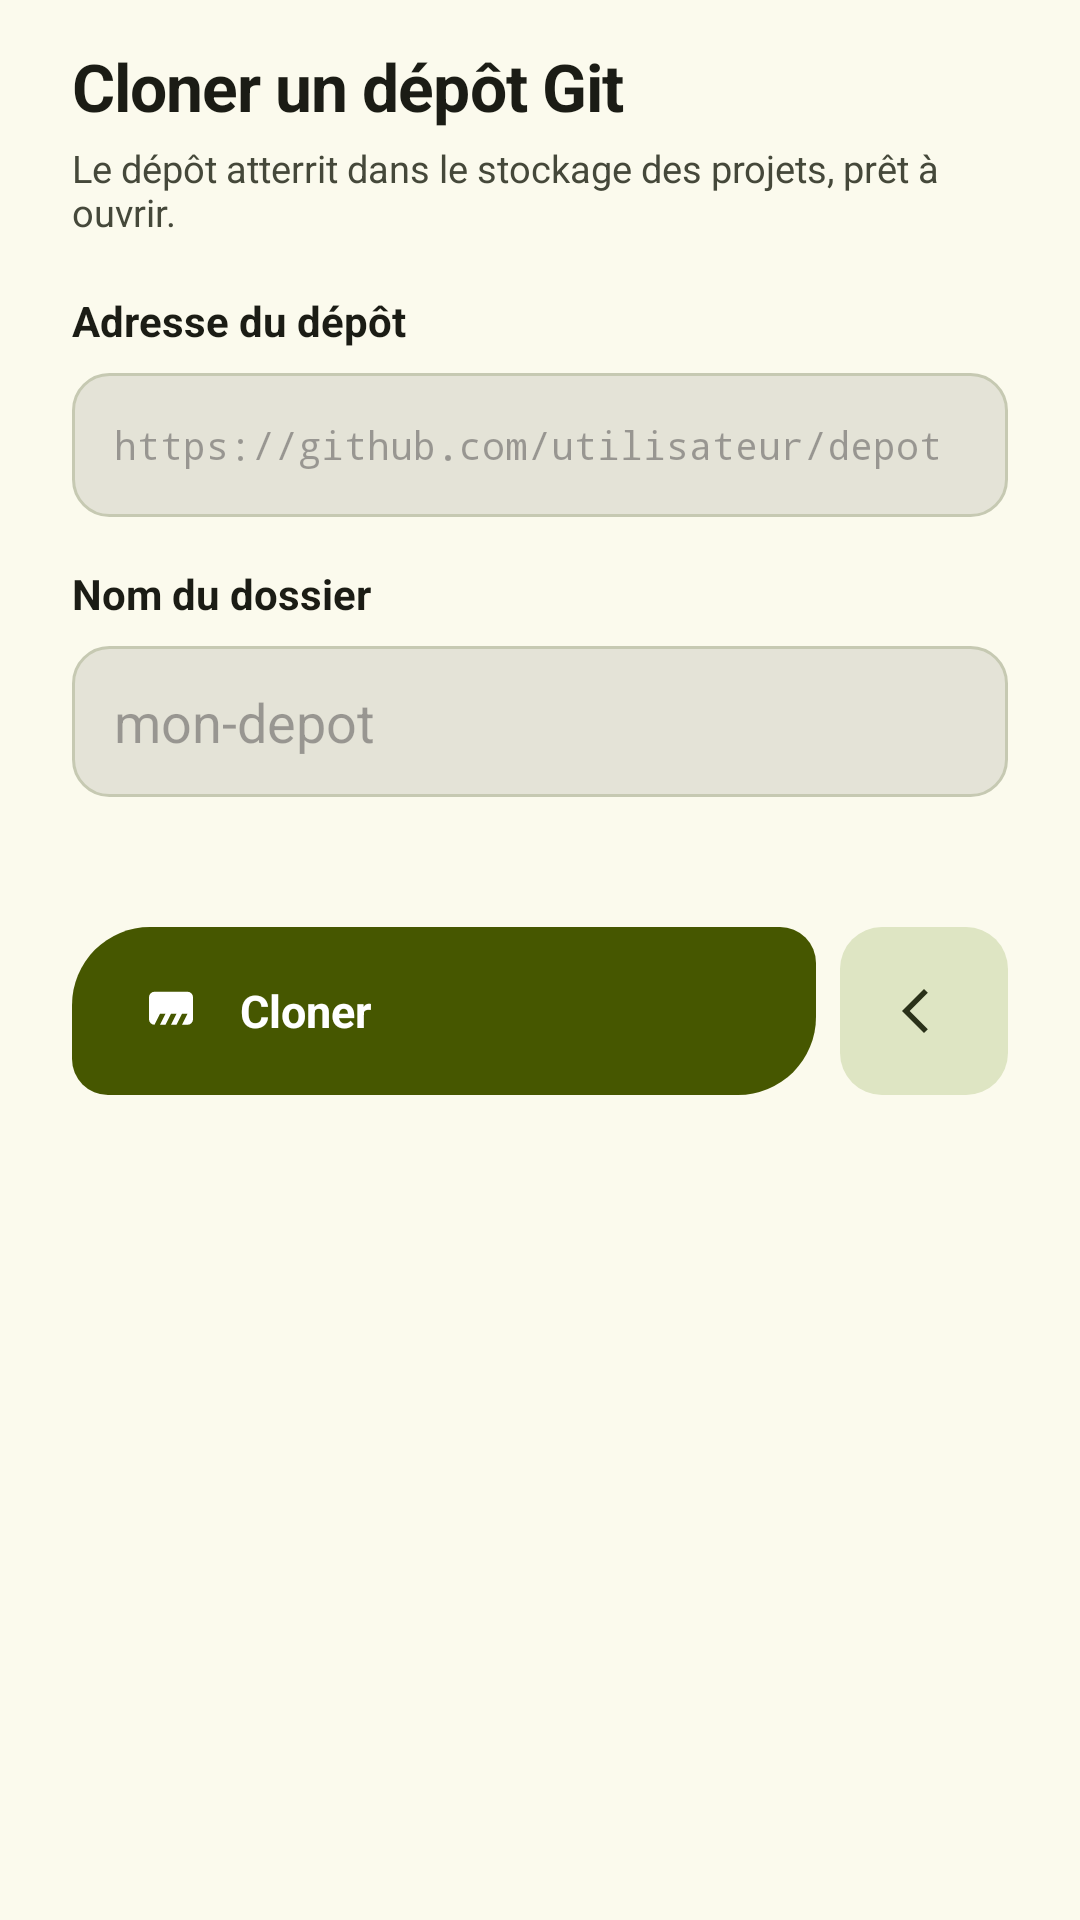

Where icons sit on this 1080*1920 app screen, as (x1, y1, x2, y2):
Annuler: (902, 989, 928, 1033)
